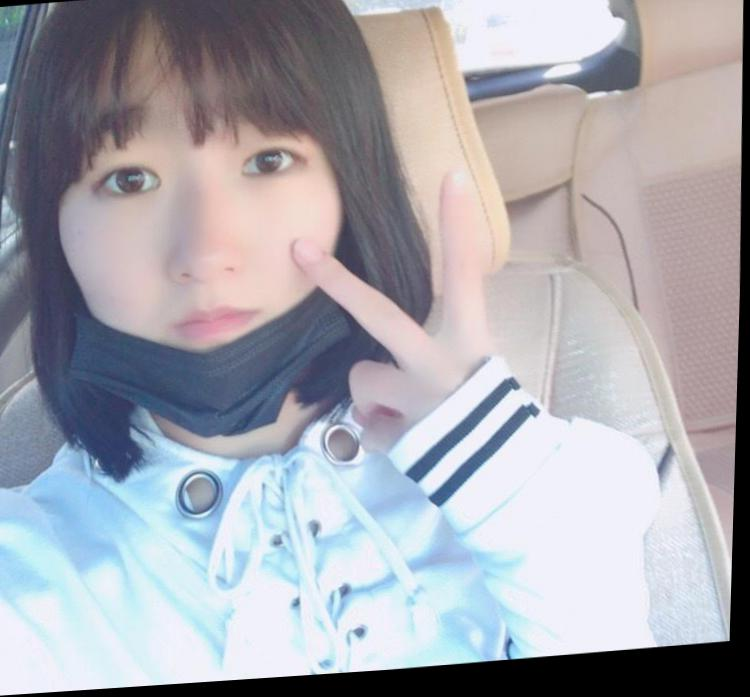WRONG: (50, 59, 357, 420)
